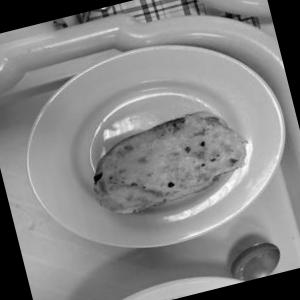cheese_sandwich: (64, 84, 266, 227)
